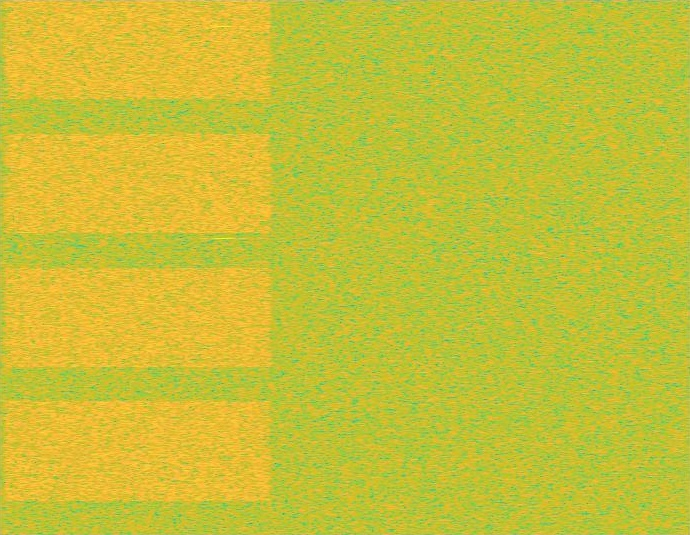5G: (0, 0, 276, 534)
Radar: (217, 0, 231, 534)
